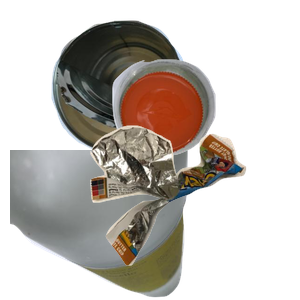glass: (10, 150, 190, 300)
metal: (49, 18, 229, 164)
plastic: (110, 57, 300, 205)
trash: (88, 123, 300, 300)
